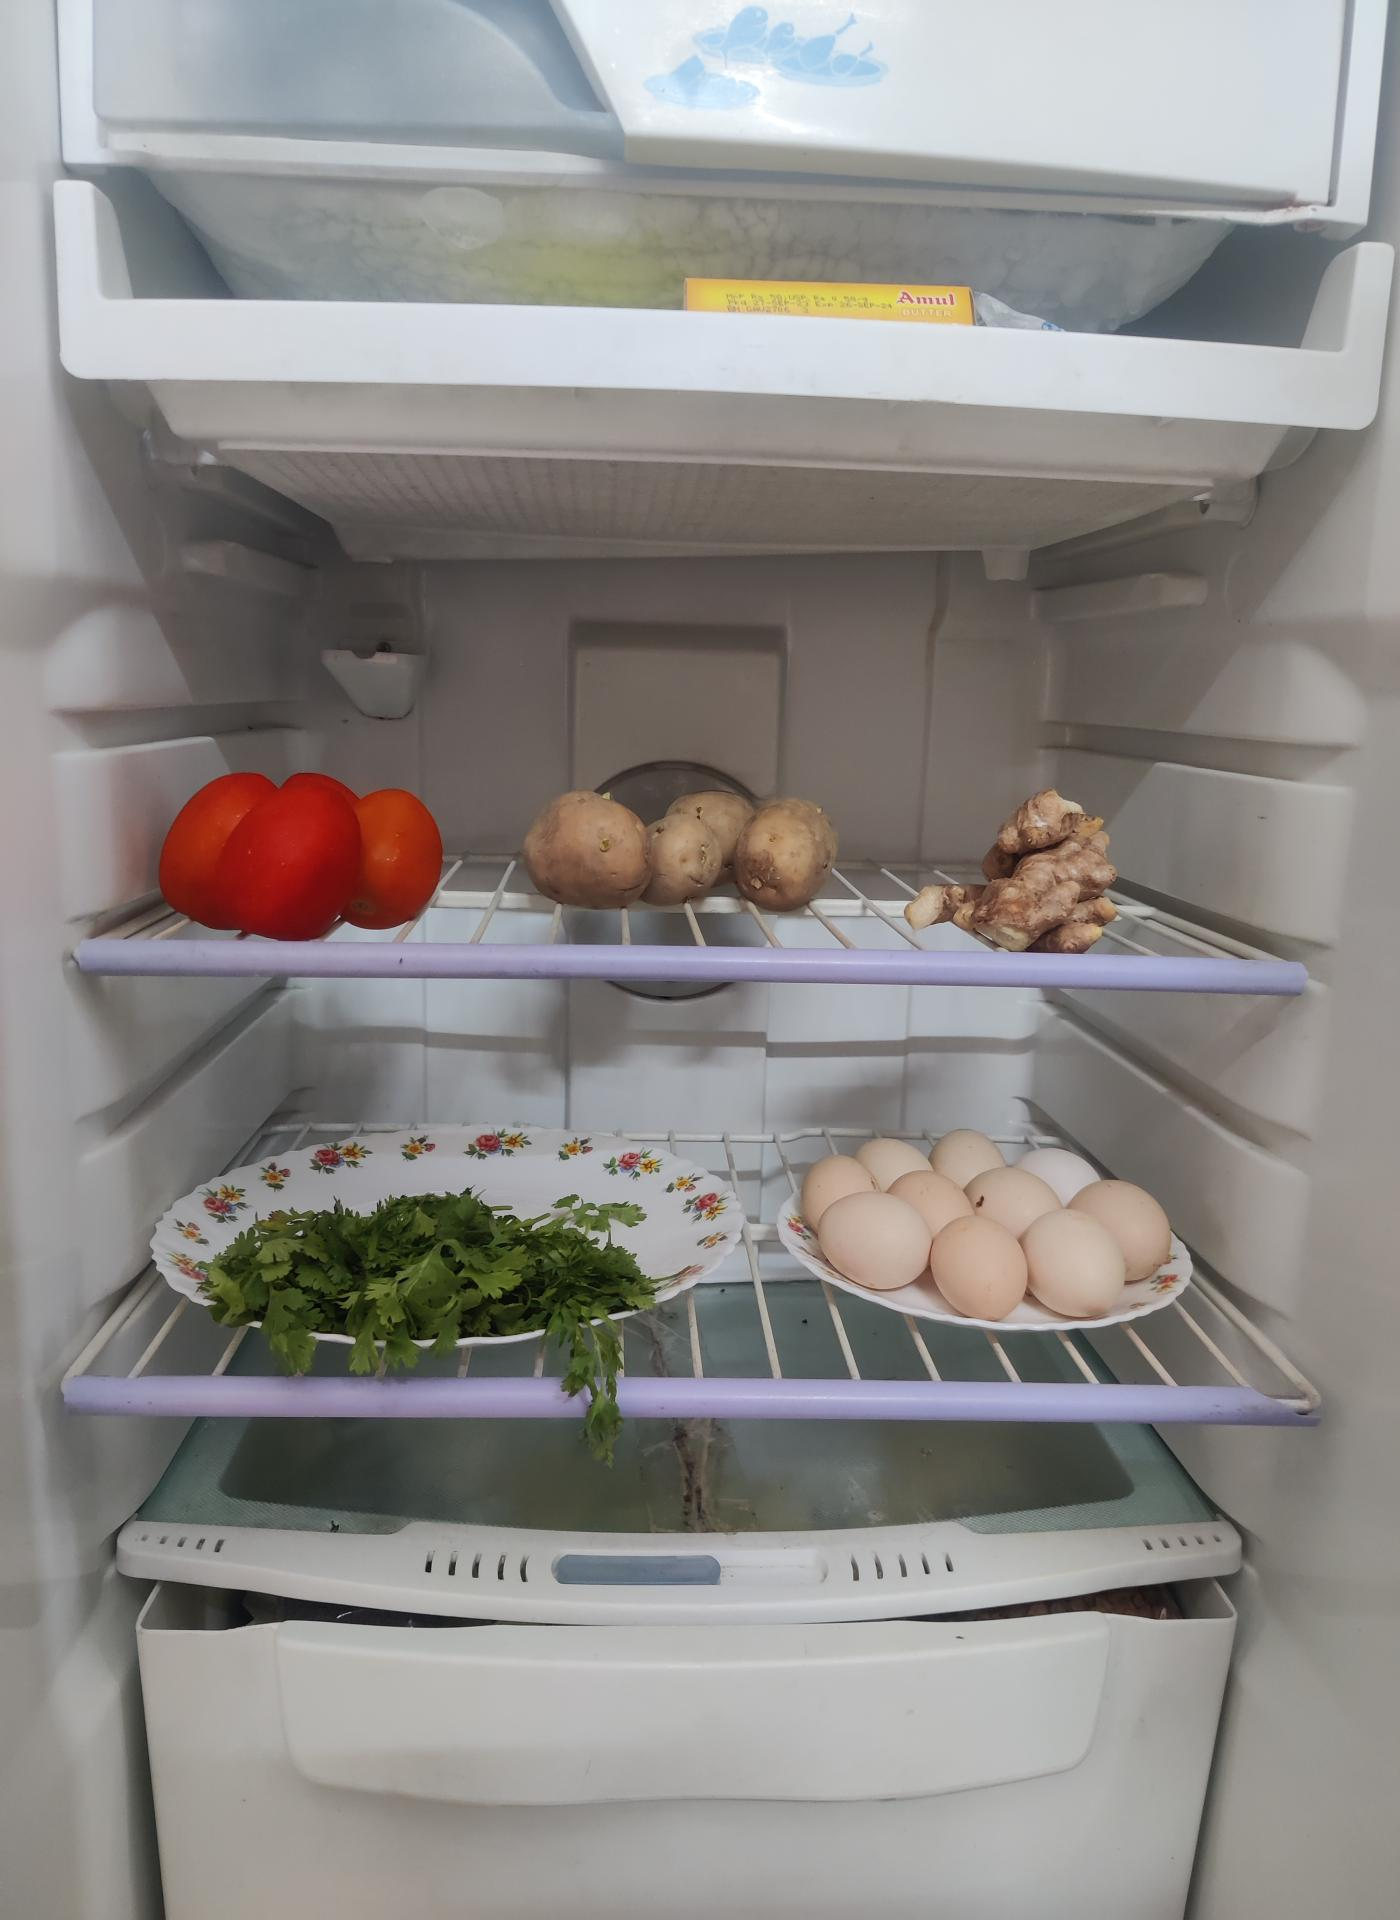coriander: (201, 1190, 663, 1354)
egg: (793, 1122, 1164, 1327)
ginger: (909, 784, 1120, 948)
potato: (526, 780, 845, 911)
tomato: (161, 771, 447, 939)
